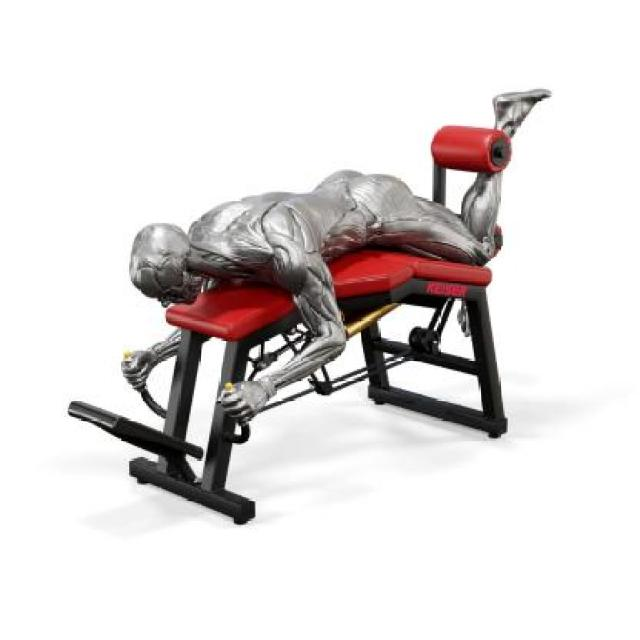reg curl machine: (64, 88, 554, 535)
